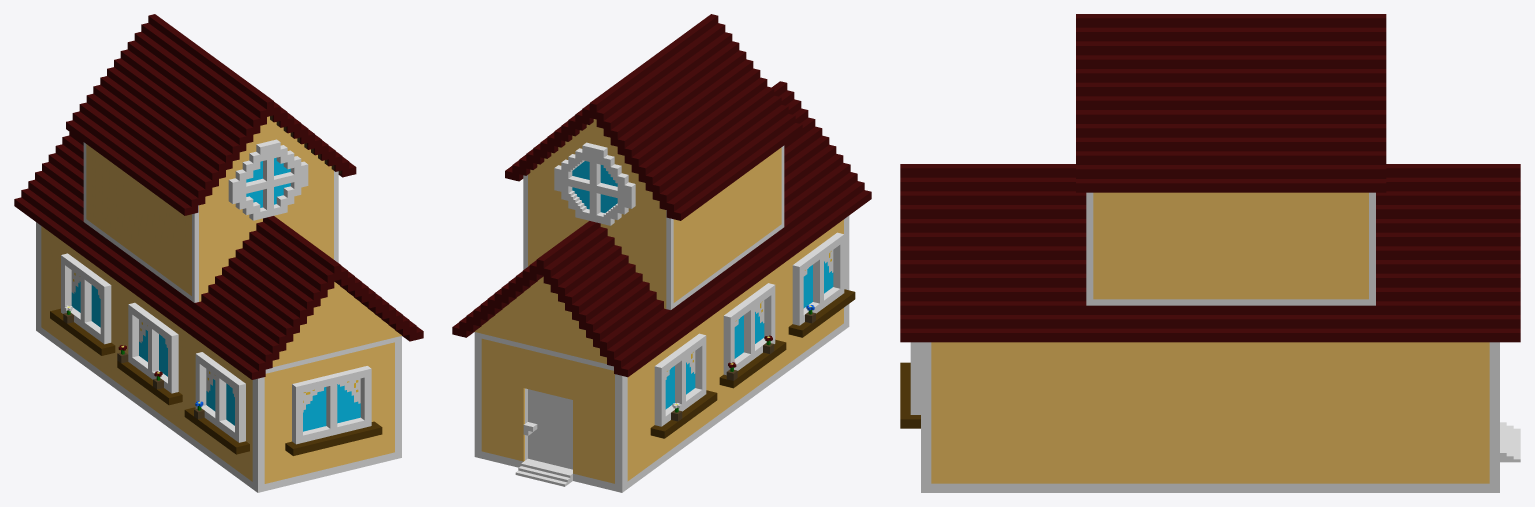
The model's file is House1-25.obj.
3 renders of one model, left to right at view 1: azimuth 30°, elevation 25°; view 2: azimuth 150°, elevation 25°; view 3: azimuth 270°, elevation 25°, orthographic. The views are drawn at different scales.
Size of the model in its own units: 7.5 by 13.8 by 18.
Materials: 1 (1 with a texture image).
